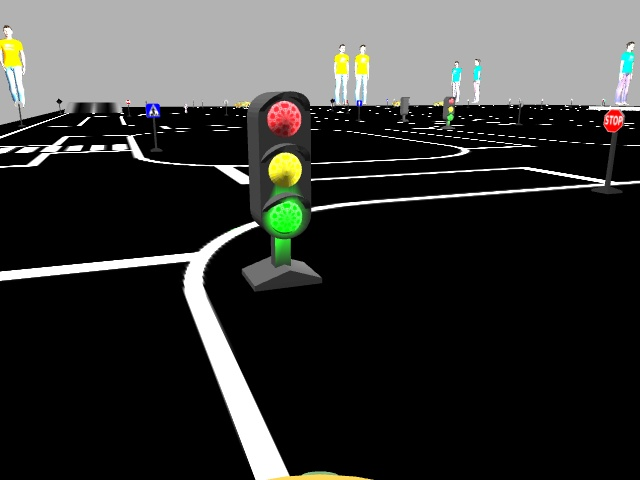Crosswalk: (145, 103, 159, 117)
Stop: (603, 109, 624, 133)
TrafficLight: (246, 88, 309, 240)
